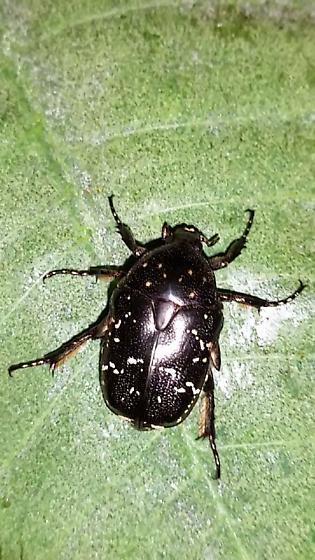Protaetia _orientalis: (7, 197, 309, 490)
